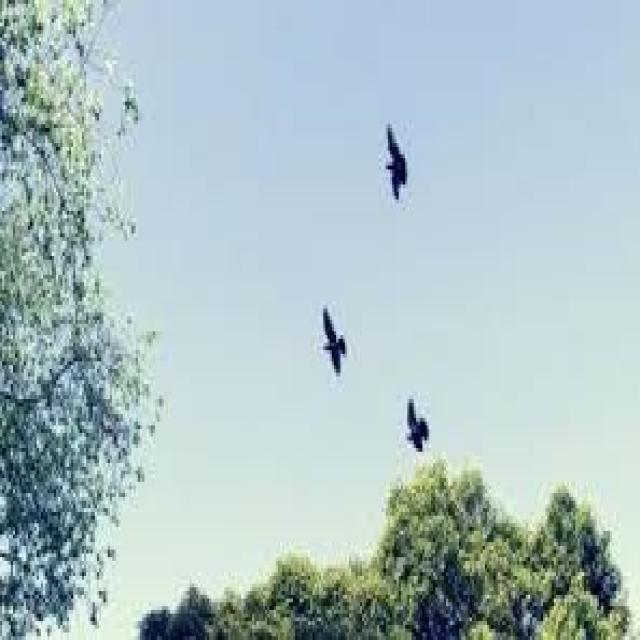bird: (303, 250, 361, 400), (374, 98, 424, 226), (382, 360, 438, 472)
